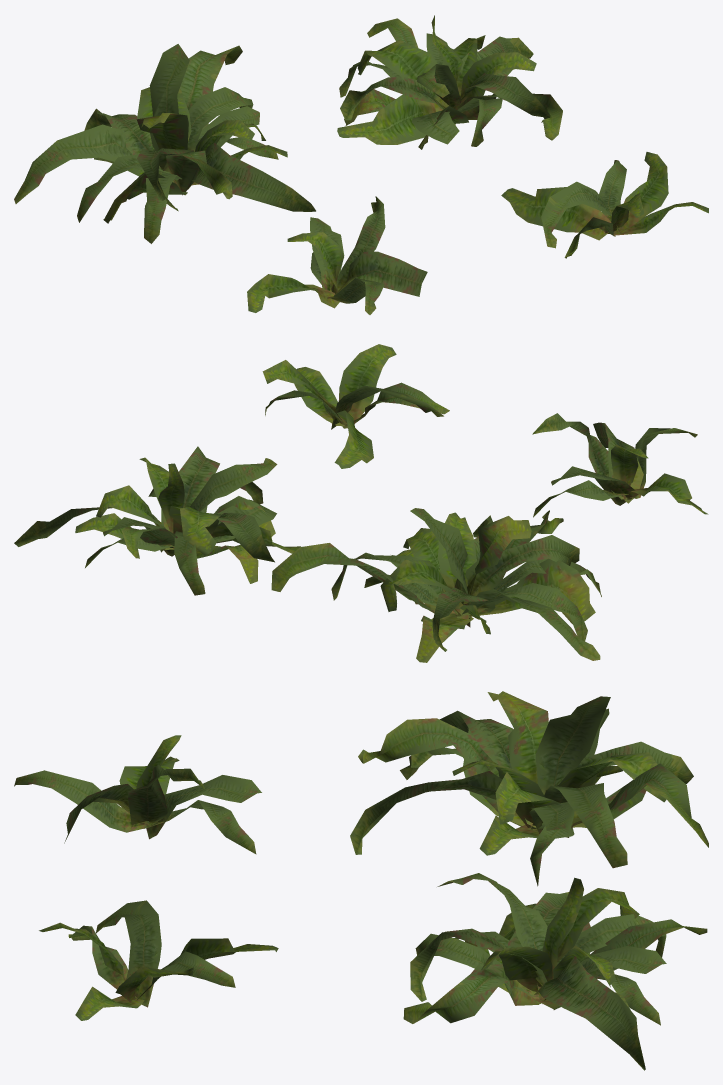
Rendered from village-floor-fern_02.glb.
3 views of the same model, one above another, from view 1: azimuth 30°, elevation 25°; view 2: azimuth 150°, elevation 25°; view 3: azimuth 270°, elevation 25° (orthographic). The views are drawn at different scales.
Visible parts, largest first — view 1: fern_02_b; view 2: fern_02_b; view 3: fern_02_b.
Boxes of the visible parts, left/top/right/bottom form: fern_02_b: left=14, top=15, right=708, bottom=314; fern_02_b: left=14, top=344, right=708, bottom=662; fern_02_b: left=14, top=691, right=708, bottom=1070.
Size of the model in its own units: 1.97 by 0.4276 by 1.72.
Materials: 1 (1 with a texture image).
